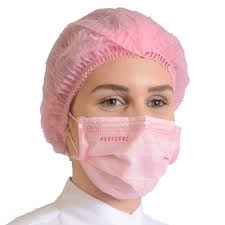with_mask_and_cap: (62, 15, 180, 202)
